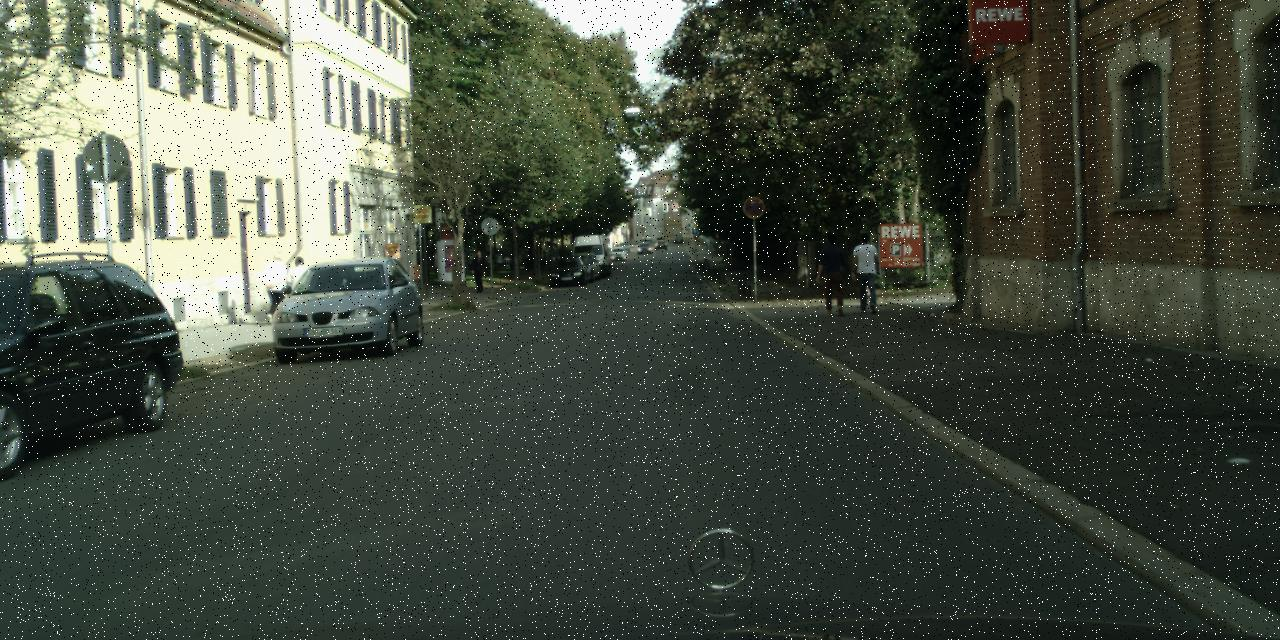ped: (816, 233, 850, 314), (849, 232, 882, 312), (261, 250, 291, 322), (286, 256, 313, 323), (470, 250, 487, 292)
